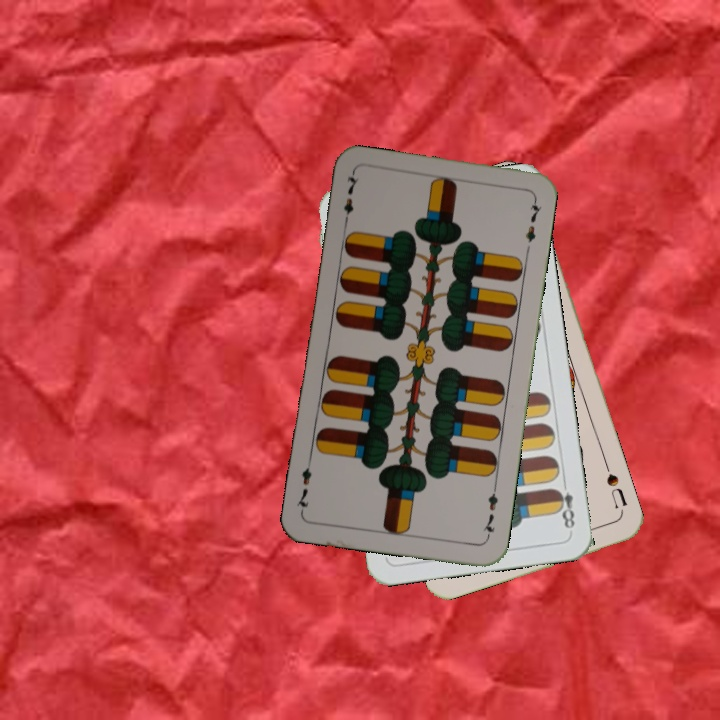E7: (478, 483, 501, 542), (339, 170, 361, 229)
E8: (551, 475, 578, 531)
SU: (600, 459, 630, 511)
